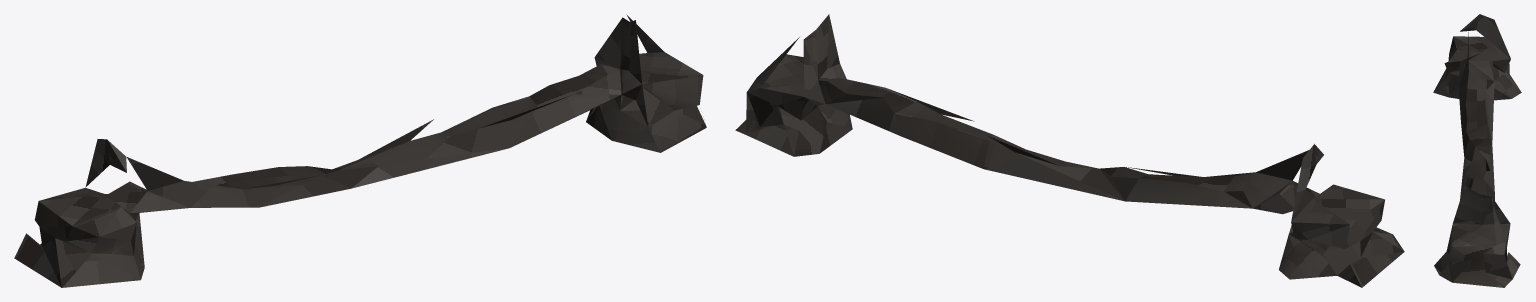
File: stunt-suspension-bridge.collision.glb
3 views of the same model, side by side, from view 1: azimuth 30°, elevation 25°; view 2: azimuth 150°, elevation 25°; view 3: azimuth 270°, elevation 25° (orthographic). The views are drawn at different scales.
Visible parts, largest first — view 1: output_unwrapped; view 2: output_unwrapped; view 3: output_unwrapped.
Part boxes in pixels (x1,y1,x2,y2): output_unwrapped: [14, 14, 706, 287]; output_unwrapped: [735, 14, 1404, 287]; output_unwrapped: [1433, 14, 1521, 287].
Bounding box in the file's own units: 1.86 × 0.3219 × 0.3189.
1 material, 1 textured.
